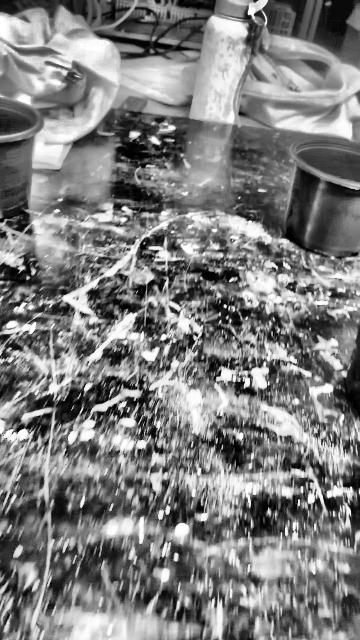pot: (285, 135, 360, 259), (0, 98, 42, 219)
